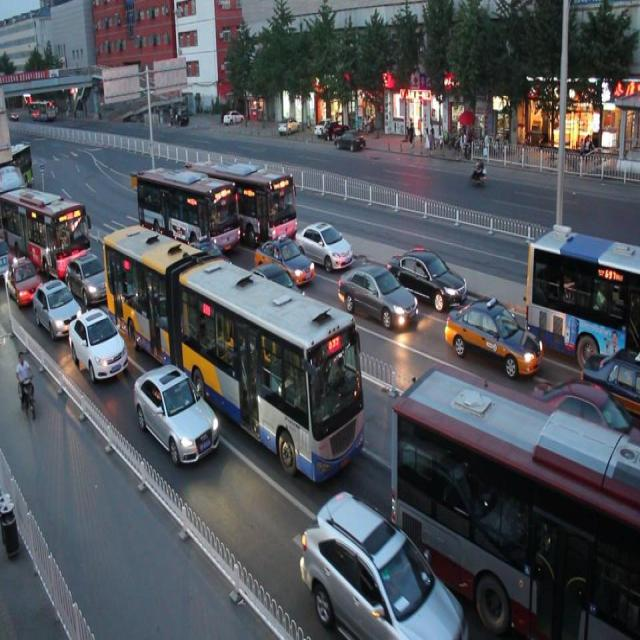car: (301, 493, 463, 640), (523, 372, 640, 488), (131, 359, 220, 465), (446, 294, 544, 382), (337, 258, 416, 331), (390, 243, 468, 309), (70, 302, 128, 382), (576, 349, 640, 413), (253, 230, 314, 289), (294, 214, 352, 273), (181, 236, 237, 290), (36, 278, 82, 342), (247, 259, 304, 310), (0, 250, 42, 307), (67, 251, 111, 305)
van: (102, 218, 366, 482), (391, 364, 640, 640), (524, 225, 640, 360), (136, 160, 240, 262), (191, 153, 298, 248), (1, 182, 90, 272)
